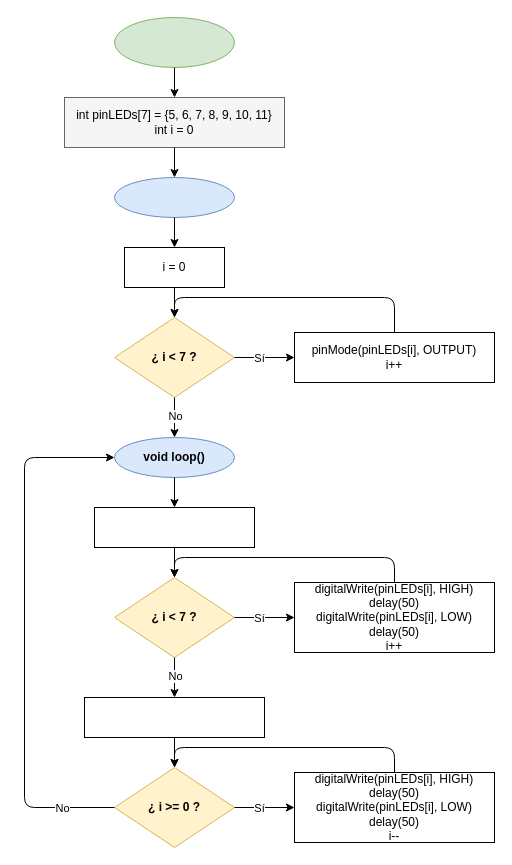
This 512x865 diagram has some shape labels left out. Here are the shapes that lost their labels. From the top down, the box of each, then its label:
(114, 16, 234, 68): INICIO
(114, 176, 234, 218): void setup()
(94, 506, 254, 548): i = 0 (Secuencia Ida)
(84, 696, 264, 738): i = 6 (Secuencia Vuelta)
